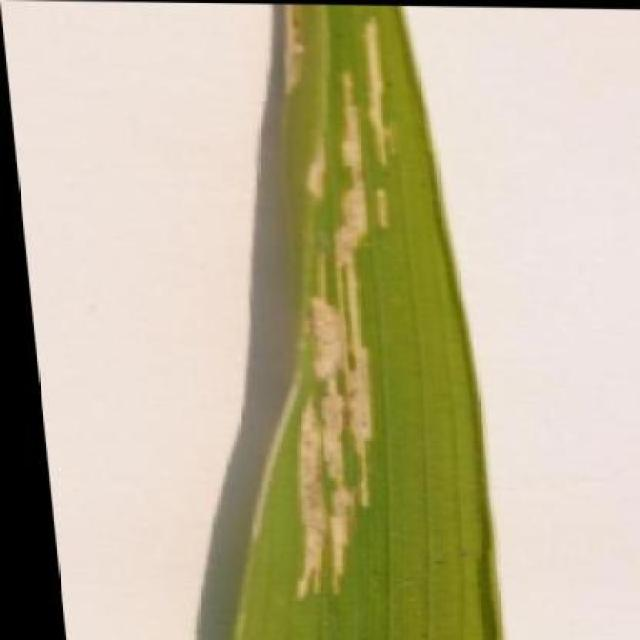Brown_Spot: (163, 1, 500, 640)
